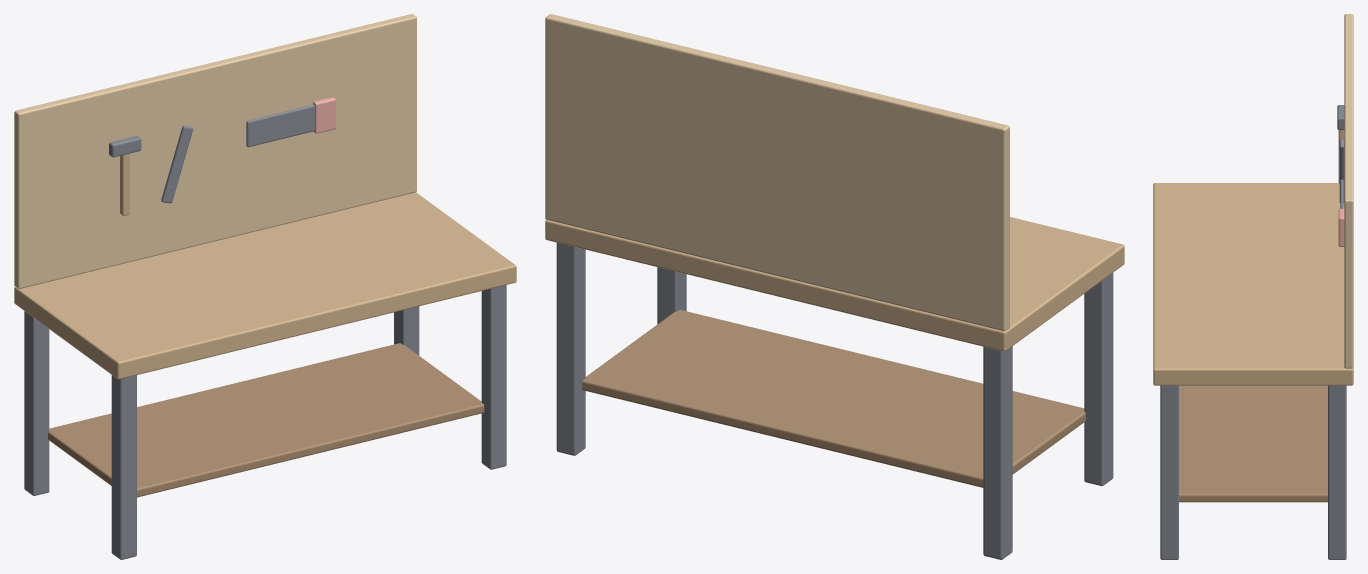
The model's file is Workbench.fbx.
The picture shows the model from 3 angles, left to right: view 1: azimuth 30°, elevation 25°; view 2: azimuth 150°, elevation 25°; view 3: azimuth 270°, elevation 25°; orthographic projection. The views are drawn at different scales.
Visible parts, largest first — view 1: Workbench; view 2: Workbench; view 3: Workbench.
Boxes of the visible parts, bbox=[...] form: Workbench: bbox=[14, 14, 516, 559]; Workbench: bbox=[545, 14, 1124, 559]; Workbench: bbox=[1153, 14, 1353, 559].
Bounding box in the file's own units: 1.9 × 1.72 × 0.86.
